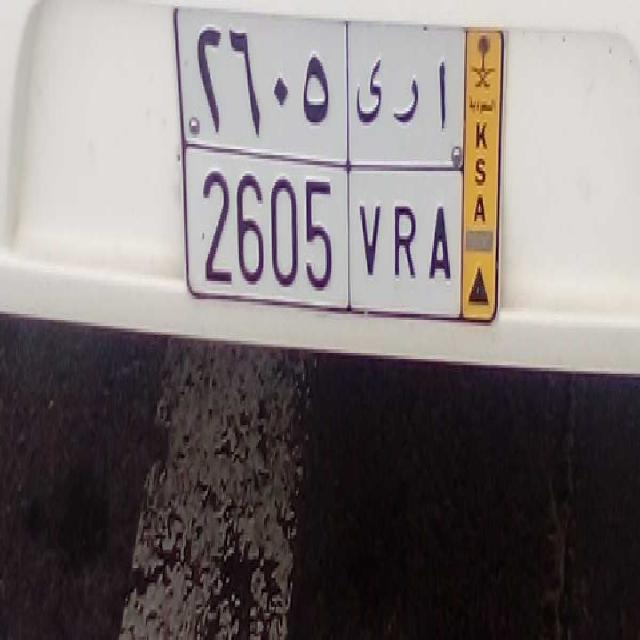license_plate: (180, 142, 462, 322)
